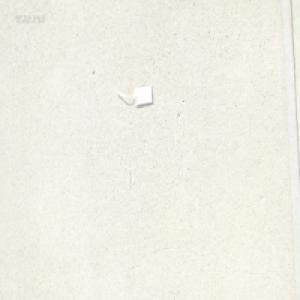LuggageTag: (114, 84, 153, 108)
